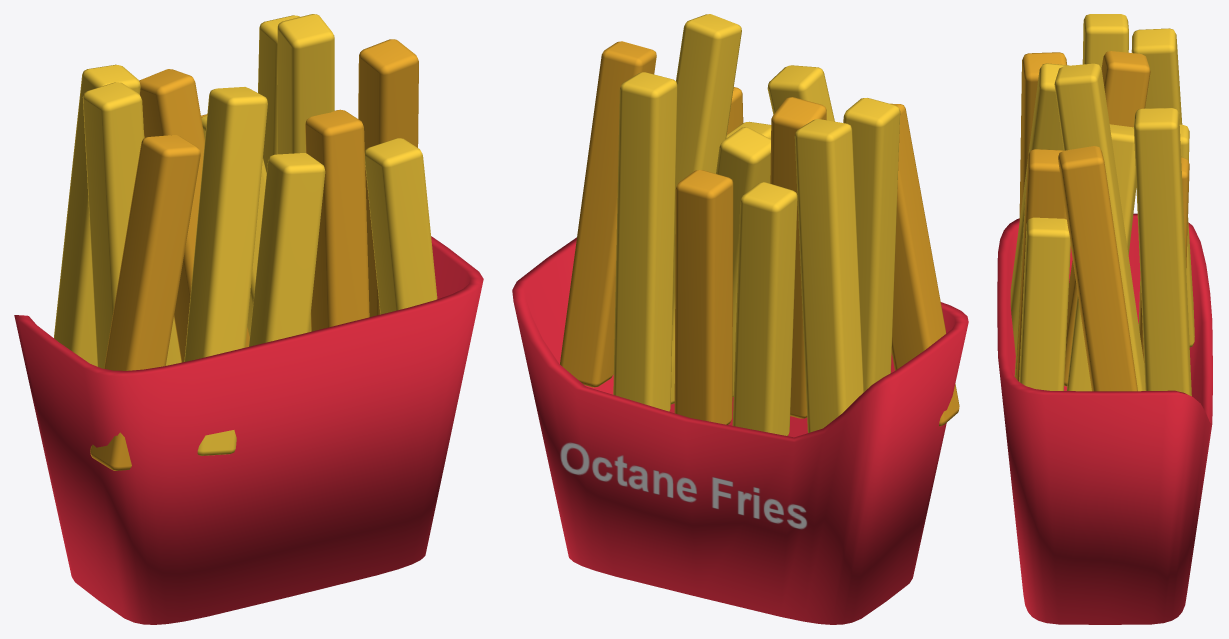
Rendered from octane-fries.glb.
3 views of the same model, side by side, from view 1: azimuth 30°, elevation 25°; view 2: azimuth 150°, elevation 25°; view 3: azimuth 270°, elevation 25° (orthographic). The views are drawn at different scales.
Visible parts, largest first — view 1: OctaneFries_Sculpture; view 2: OctaneFries_Sculpture, Octane Fries front label; view 3: OctaneFries_Sculpture.
Part boxes in pixels (x1,y1,x2,y2): OctaneFries_Sculpture: (14,14,483,624); OctaneFries_Sculpture: (512,14,968,624); Octane Fries front label: (560,442,807,529); OctaneFries_Sculpture: (997,14,1212,624).
Size of the model in its own units: 0.252 by 0.327 by 0.127.
Materials: 4 (1 with a texture image).
